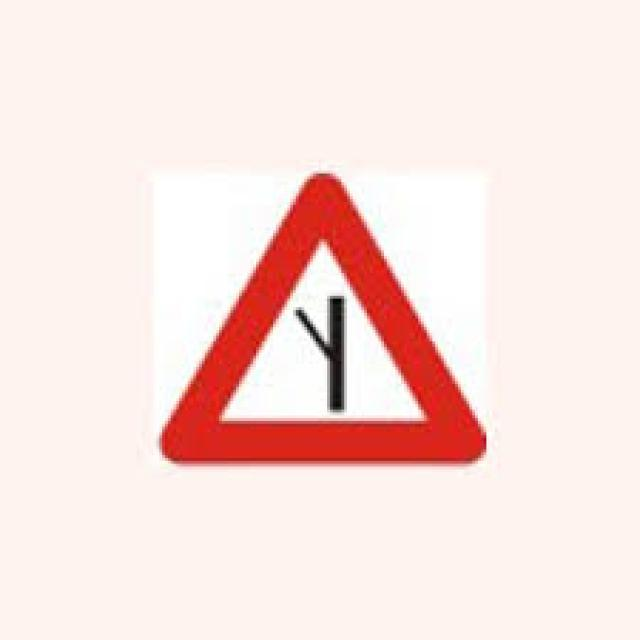y intersection: (157, 166, 492, 471)
